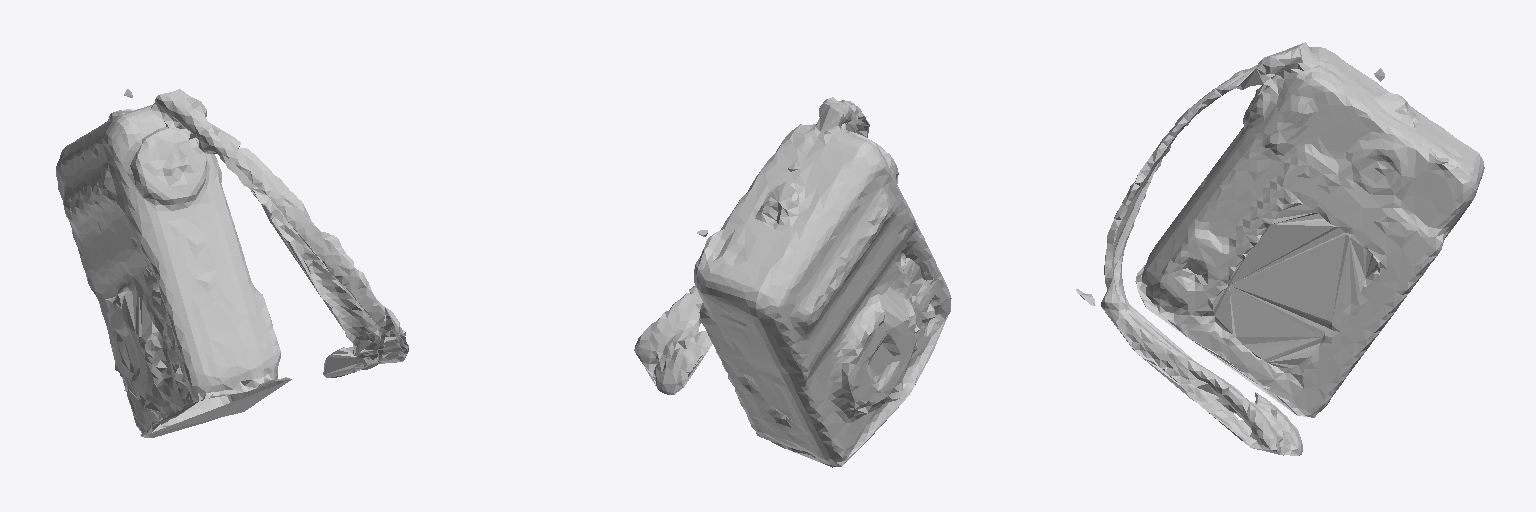
Rendered from camera.obj.
The picture shows the model from 3 angles: view 1: azimuth 30°, elevation 25°; view 2: azimuth 150°, elevation 25°; view 3: azimuth 270°, elevation 25°; orthographic projection.
Bounding box in the file's own units: 92.14 × 113 × 119.